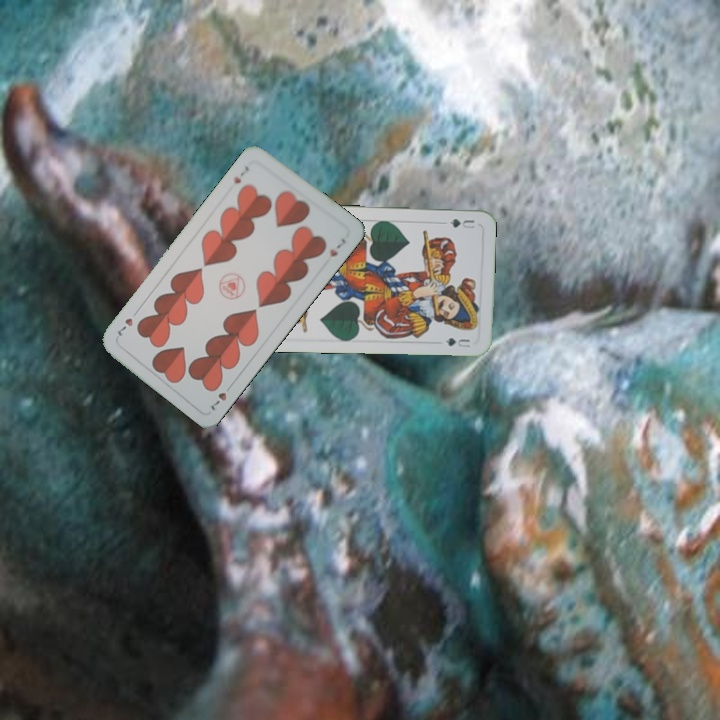GU: (439, 215, 477, 231)
H7: (207, 379, 236, 413), (229, 162, 252, 186)
